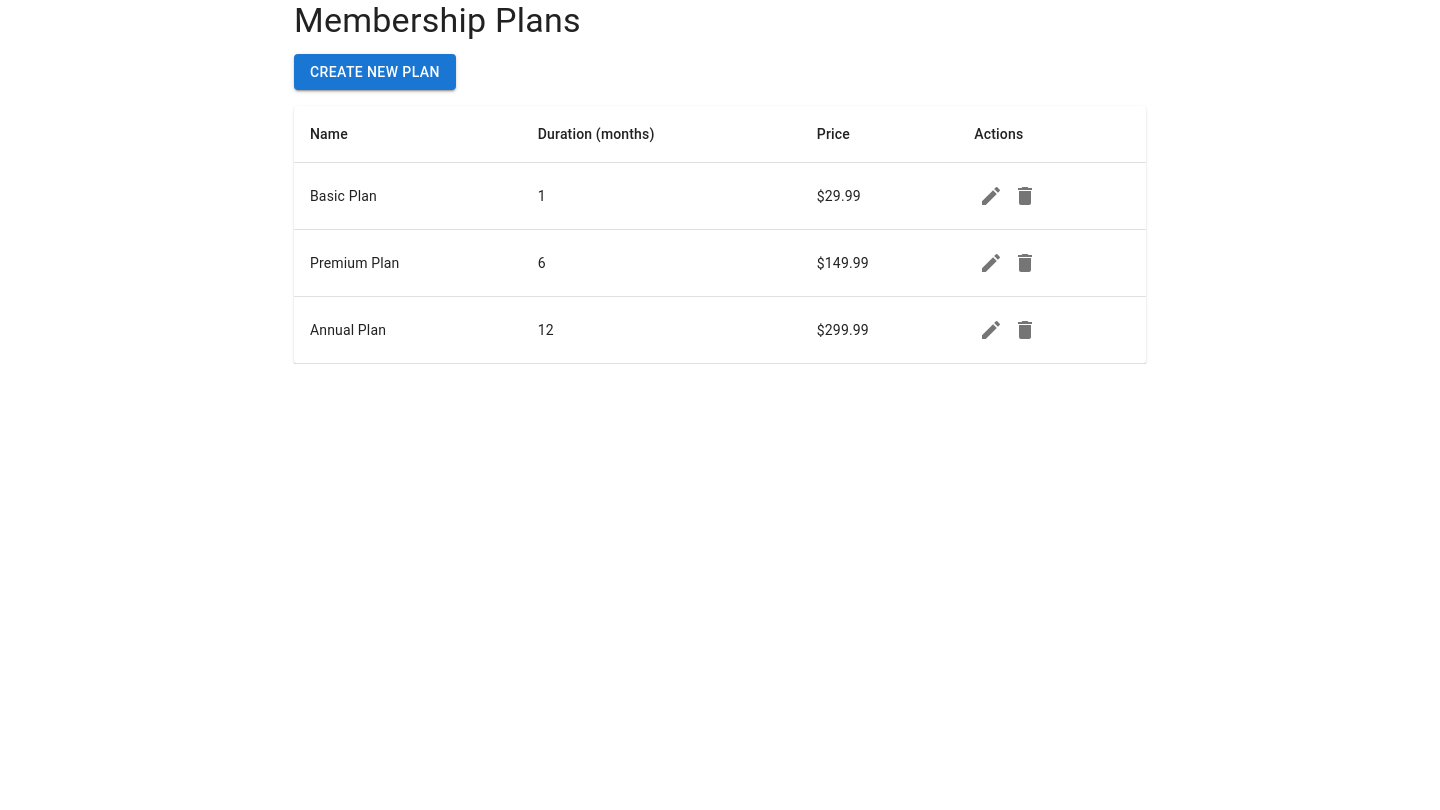
Scenario: MembershipPlanPage › opens edit dialog when edit button is clicked
The width and height of the screenshot is (1440, 810).
Click the button named "Edit" in the row of "Basic Plan" at (991, 196), box [974, 179, 1008, 213]
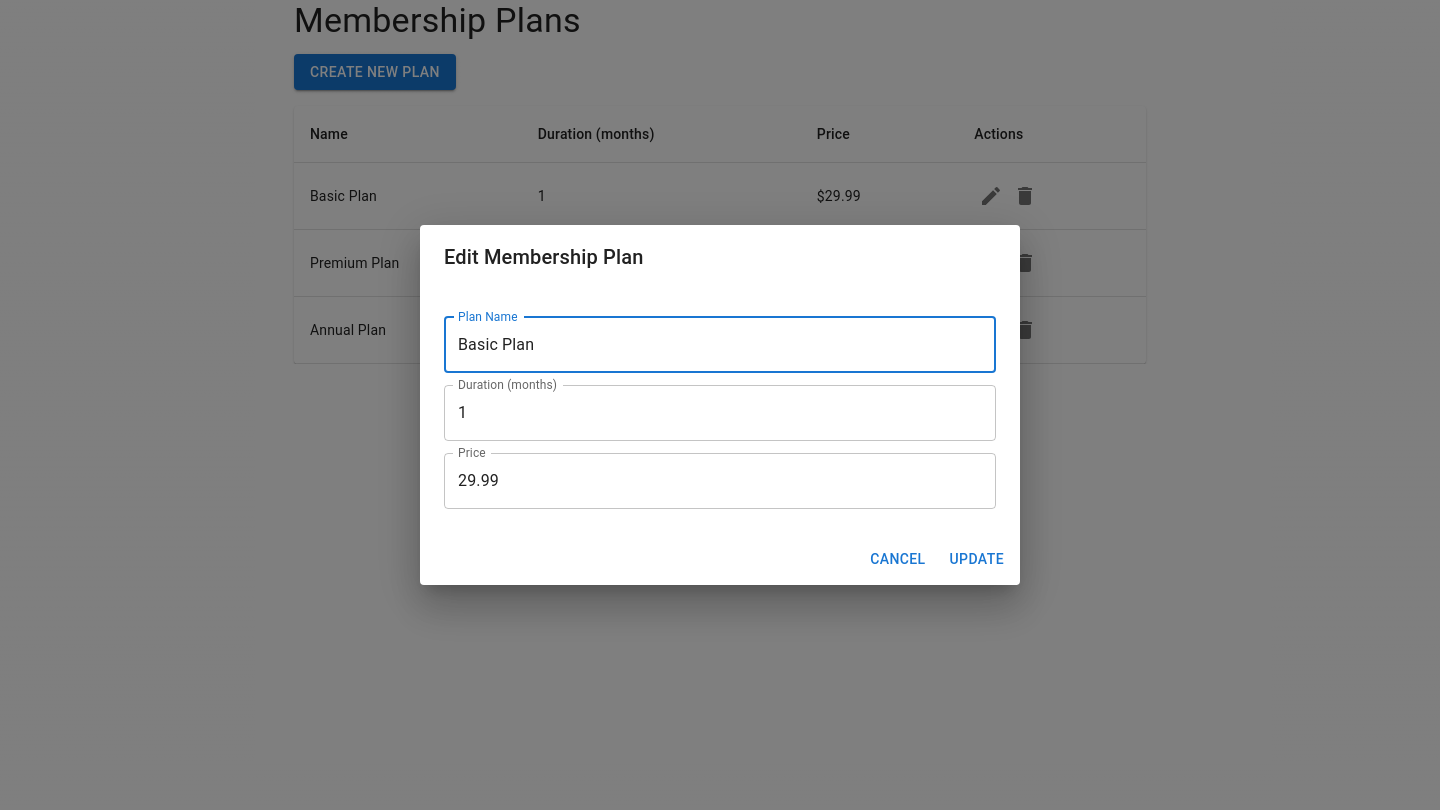
Expected: the heading "Edit Membership Plan" is shown, [444, 245, 644, 269]
